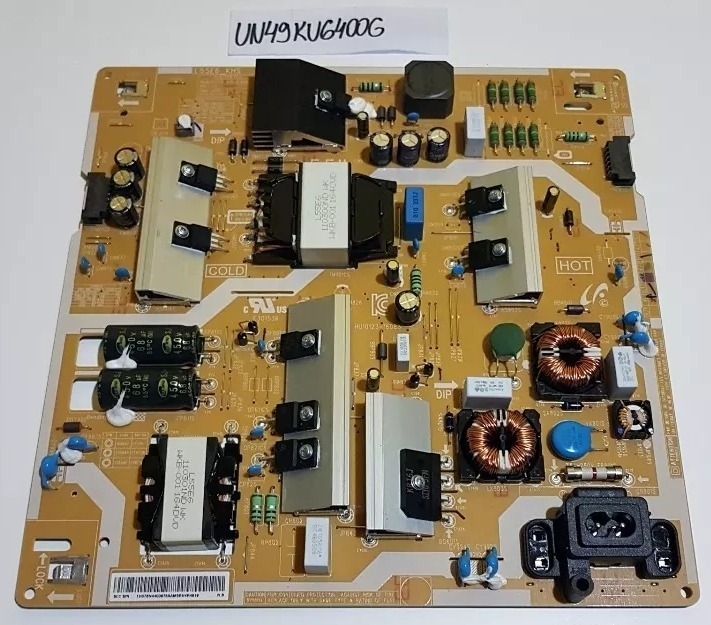capacitor: (395, 125, 426, 173), (423, 119, 453, 168), (365, 128, 396, 168), (388, 292, 426, 322), (105, 192, 138, 222), (114, 145, 150, 172), (105, 169, 142, 191)
